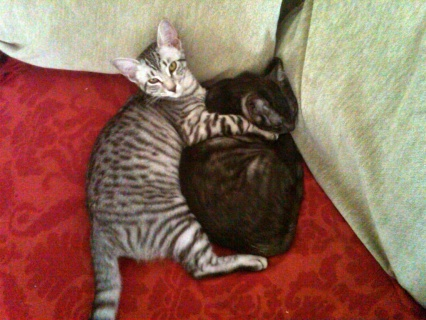Cat: (82, 17, 279, 319), (179, 54, 306, 257)
